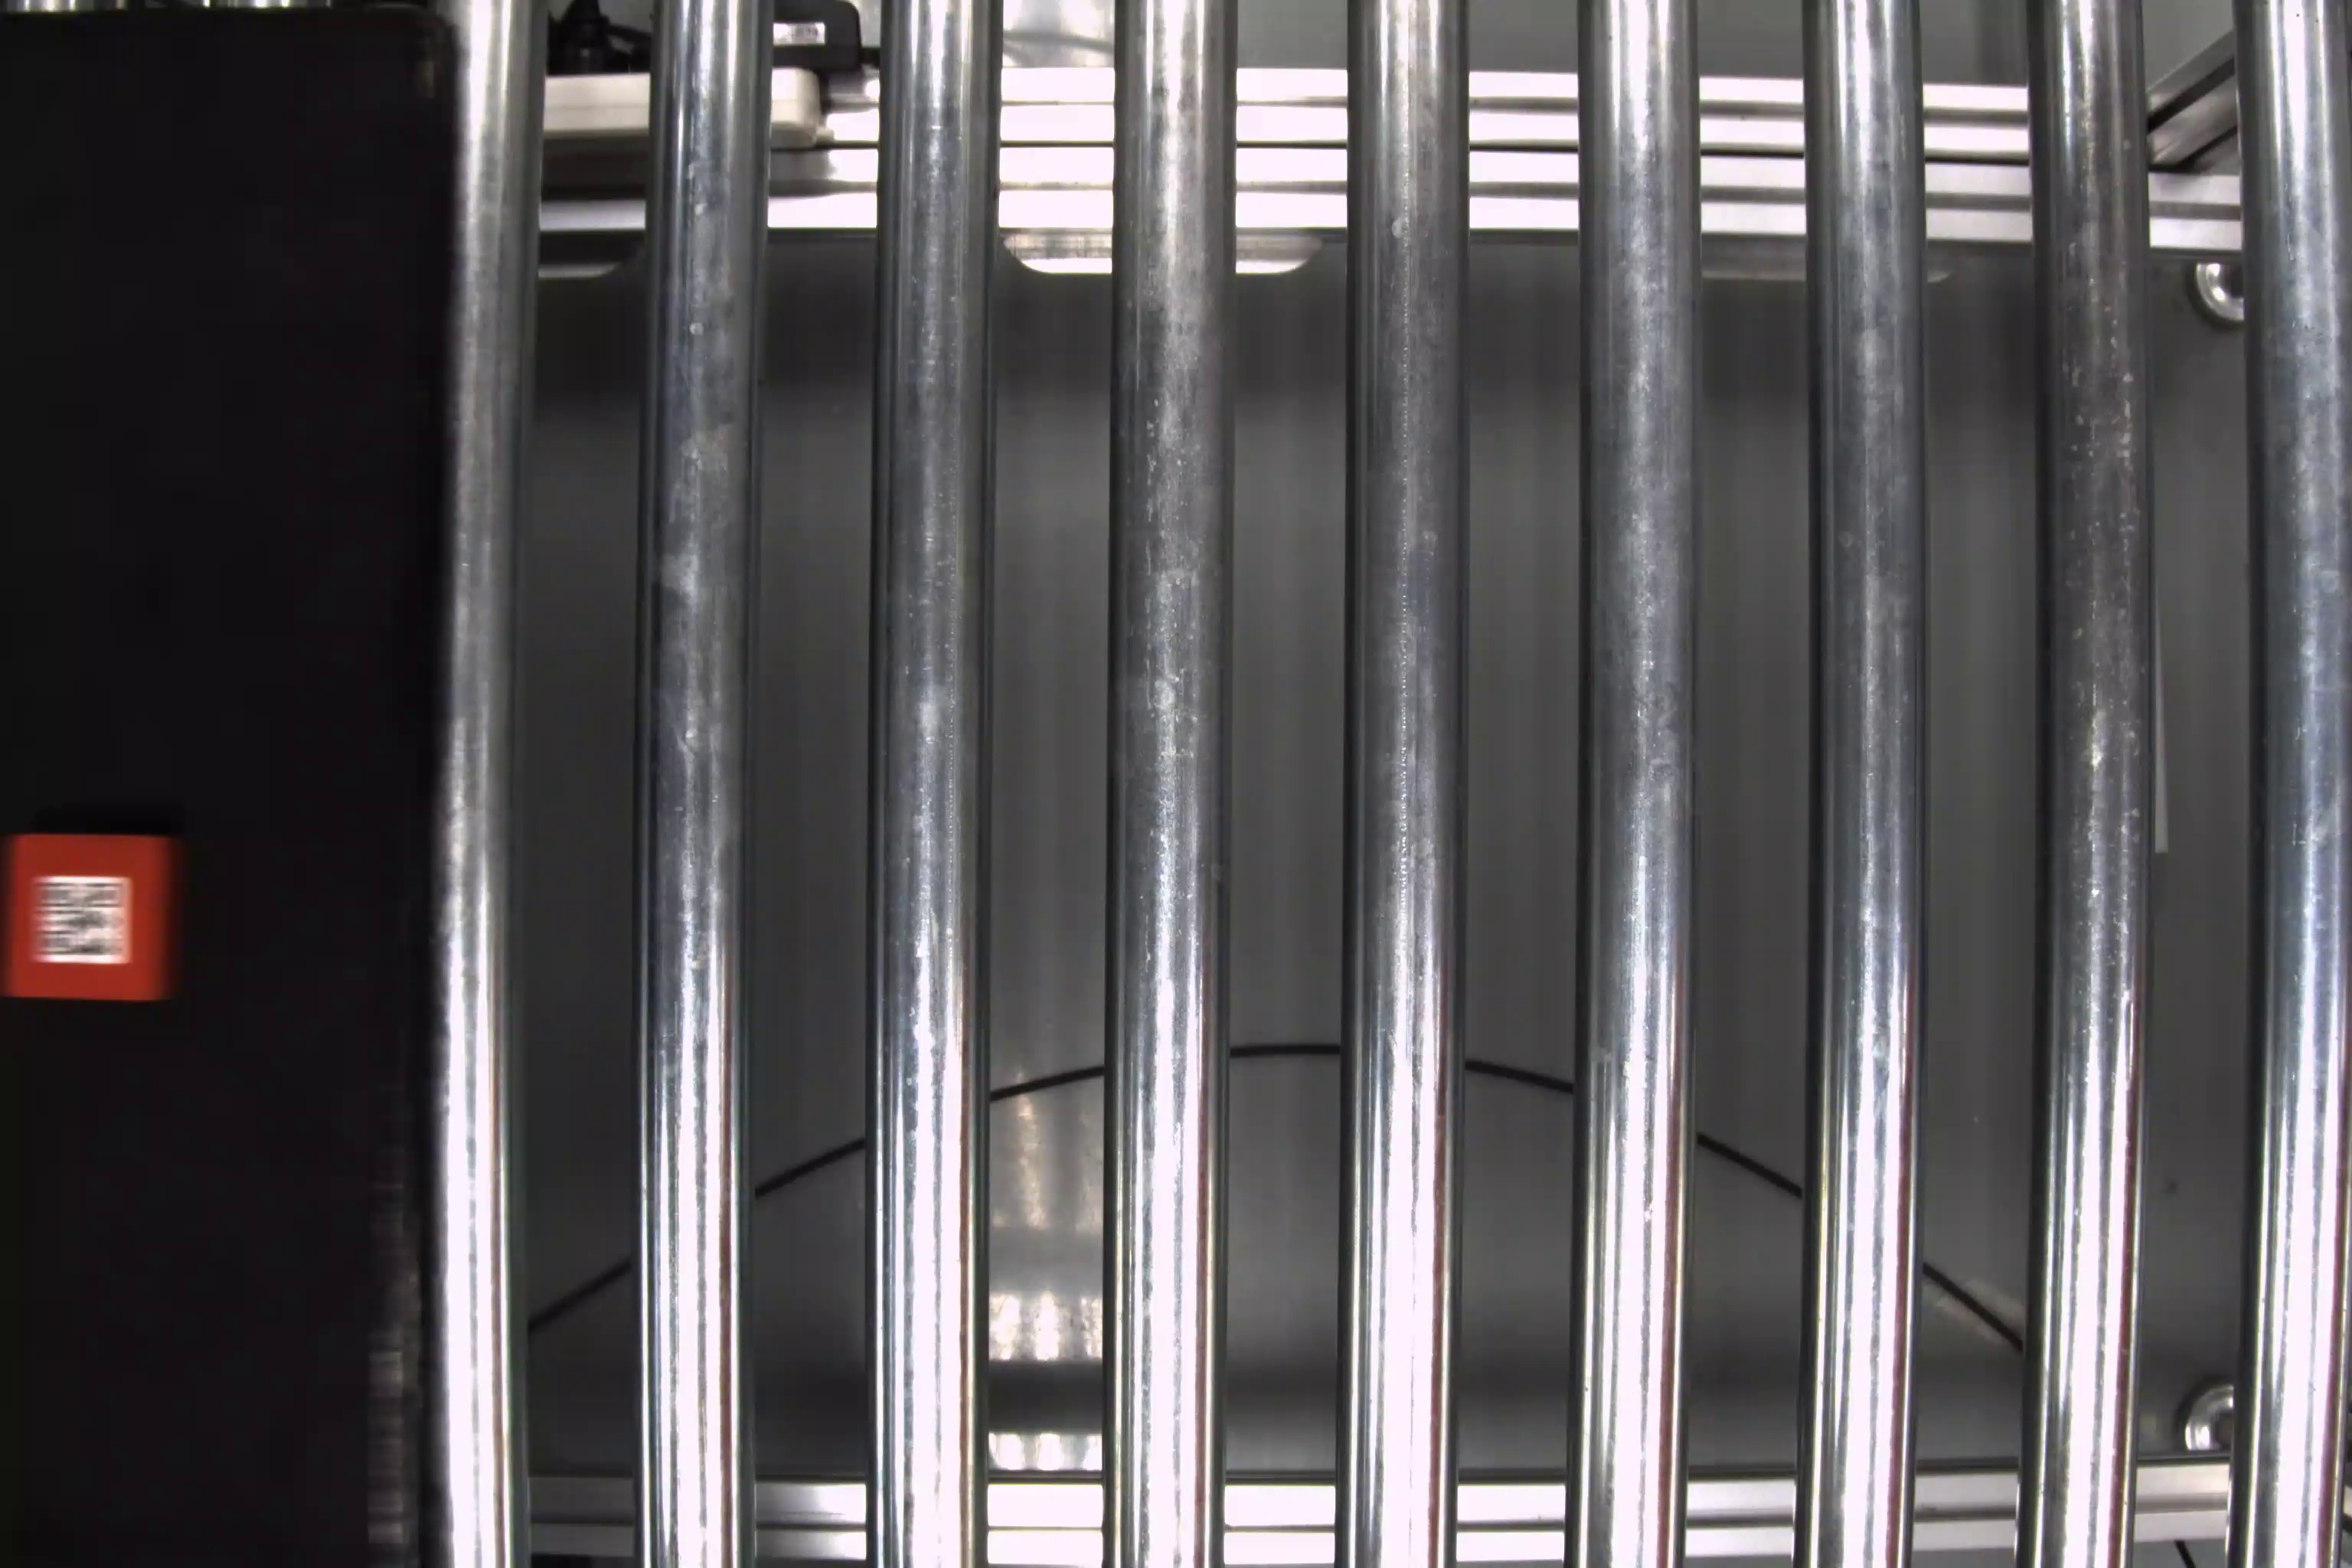wood: (7, 824, 194, 1006)
